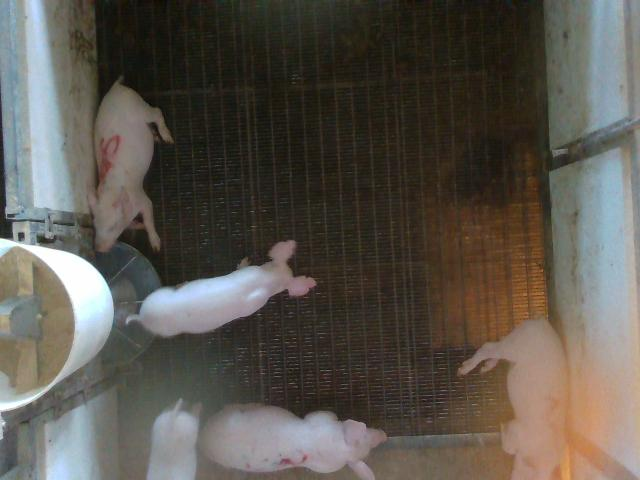pig-2: (459, 318, 568, 478)
pig-3: (200, 404, 386, 478)
pig-5: (89, 76, 174, 251)
